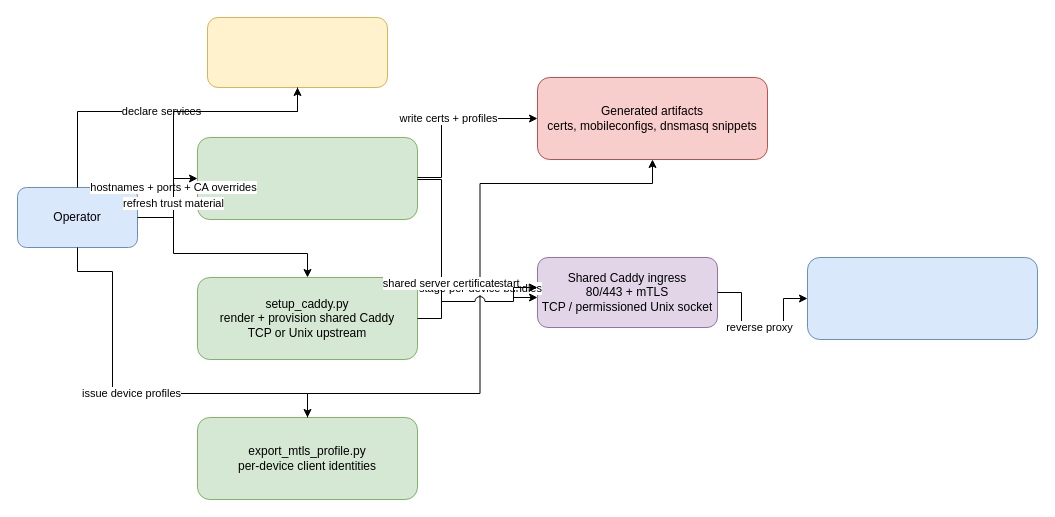
The diagram is 1055 pixels wide and 517 high, and some of its shapes have lost their labels. The centre of each missing label's shape, as x and y in pixels:
"Backend services clockwork, intake, snowbridge, tachometer" belongs at (922,298).
"services.toml service registry" belongs at (297,52).
"setup-mtls.sh CA + server cert + mobileconfig" belongs at (307,178).
